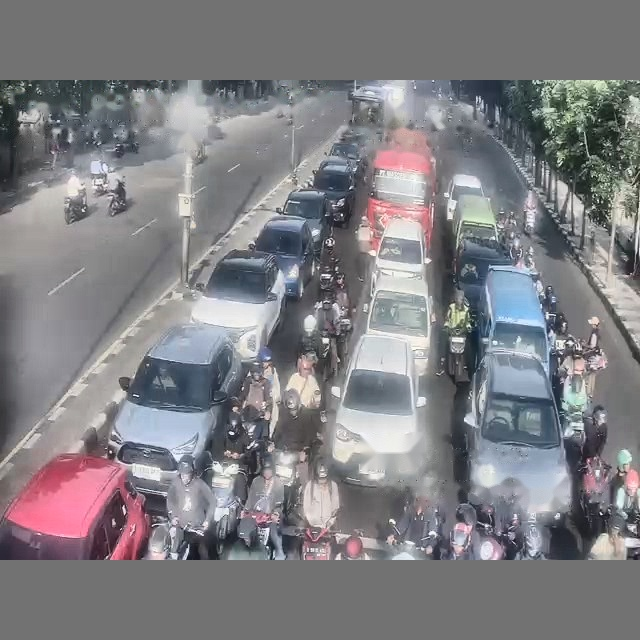Mobil: (107, 323, 242, 495), (464, 350, 570, 521), (0, 453, 150, 559), (327, 334, 425, 486), (191, 249, 285, 361), (366, 275, 432, 375), (250, 215, 315, 299), (369, 218, 430, 294), (453, 238, 511, 314), (276, 189, 331, 256), (313, 164, 355, 226), (444, 174, 485, 220), (327, 141, 366, 176), (318, 156, 358, 180), (327, 142, 361, 162)
Motor: (211, 459, 243, 556), (577, 458, 610, 538), (446, 328, 468, 384), (64, 196, 87, 223), (107, 191, 126, 216), (113, 140, 138, 157)
